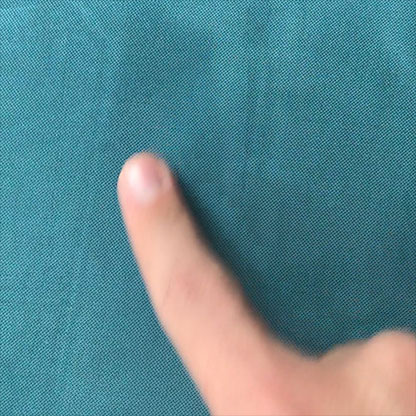fingertip: (111, 139, 192, 218)
